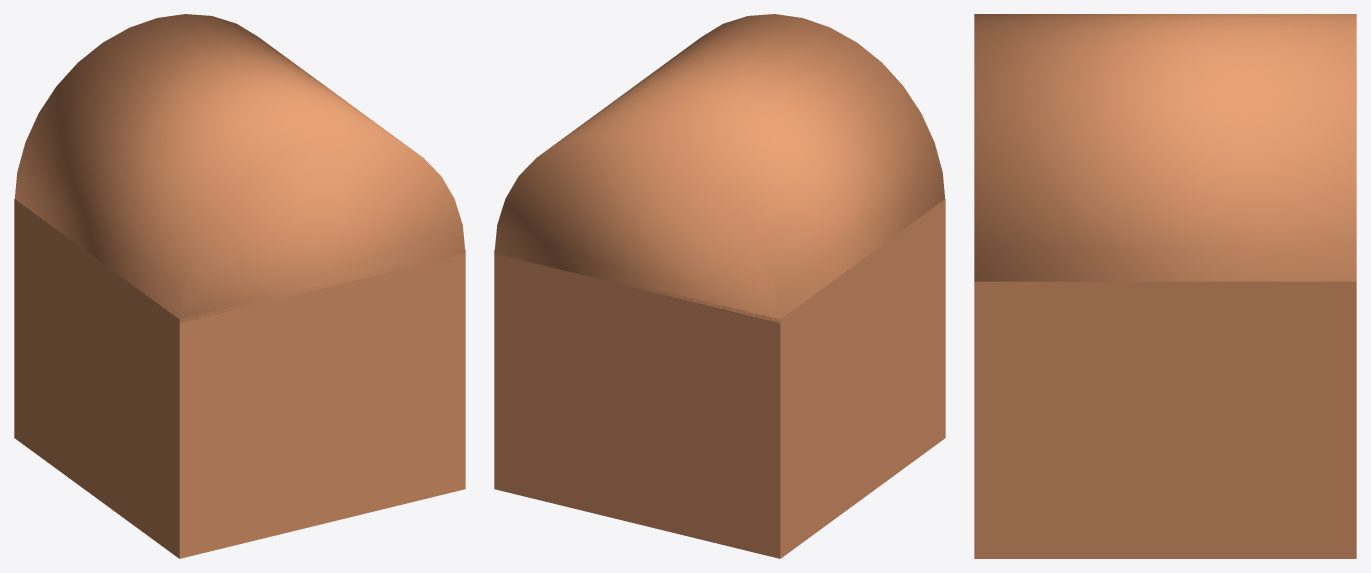
Rendered from sample4.glb.
3 views of the same model, side by side, from view 1: azimuth 30°, elevation 25°; view 2: azimuth 150°, elevation 25°; view 3: azimuth 270°, elevation 25° (orthographic). The views are drawn at different scales.
Visible parts, largest first — view 1: Cube, Cylinder; view 2: Cube, Cylinder; view 3: Cube, Cylinder.
Boxes of the visible parts, box(x1,y1,x2,y2) form: Cube: box(14, 199, 465, 558); Cylinder: box(14, 14, 465, 322); Cube: box(494, 199, 945, 558); Cylinder: box(494, 14, 945, 322); Cube: box(974, 281, 1356, 558); Cylinder: box(974, 14, 1356, 281).
Bounding box in the file's own units: 2 × 2.58 × 2.
